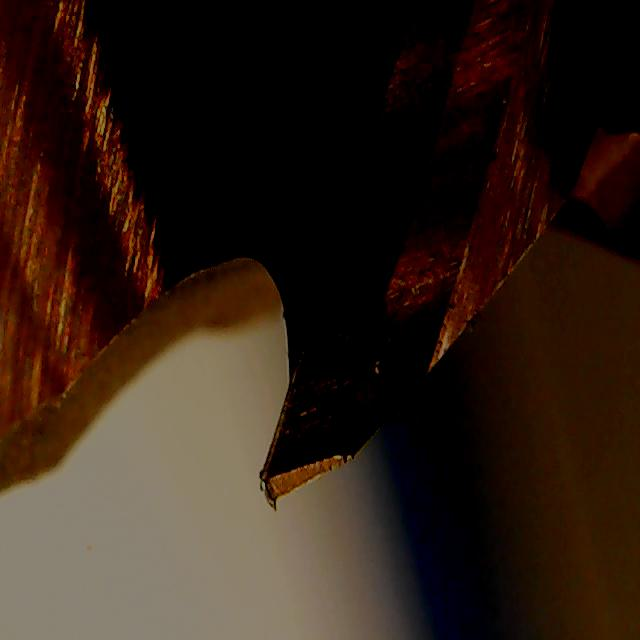Tool-wear-class-1: (243, 258, 433, 518)
